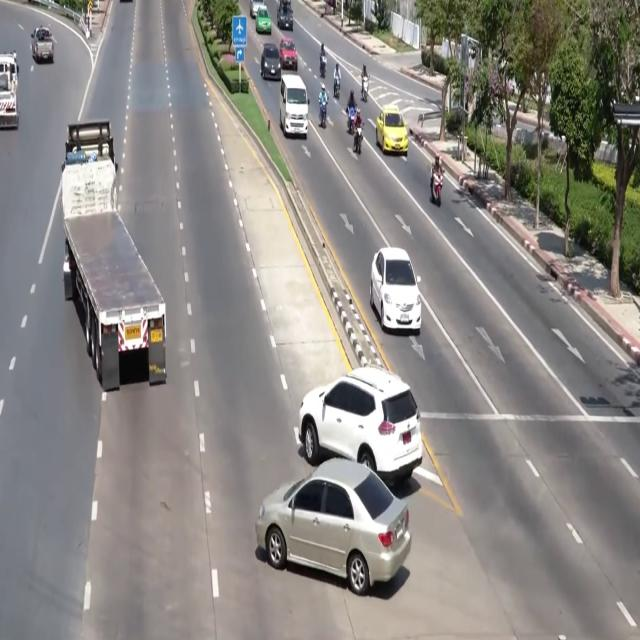car: (255, 459, 411, 596), (299, 365, 422, 484), (370, 248, 421, 334), (376, 105, 409, 155), (31, 26, 53, 63), (261, 43, 281, 79), (279, 37, 297, 71), (255, 5, 271, 34), (277, 2, 293, 31), (250, 0, 263, 18)
scooty: (431, 173, 443, 207), (353, 124, 363, 154), (347, 106, 355, 135), (361, 77, 368, 102), (320, 102, 326, 127), (320, 55, 326, 79), (334, 78, 340, 99)
truck: (61, 121, 166, 391), (0, 53, 18, 128)
